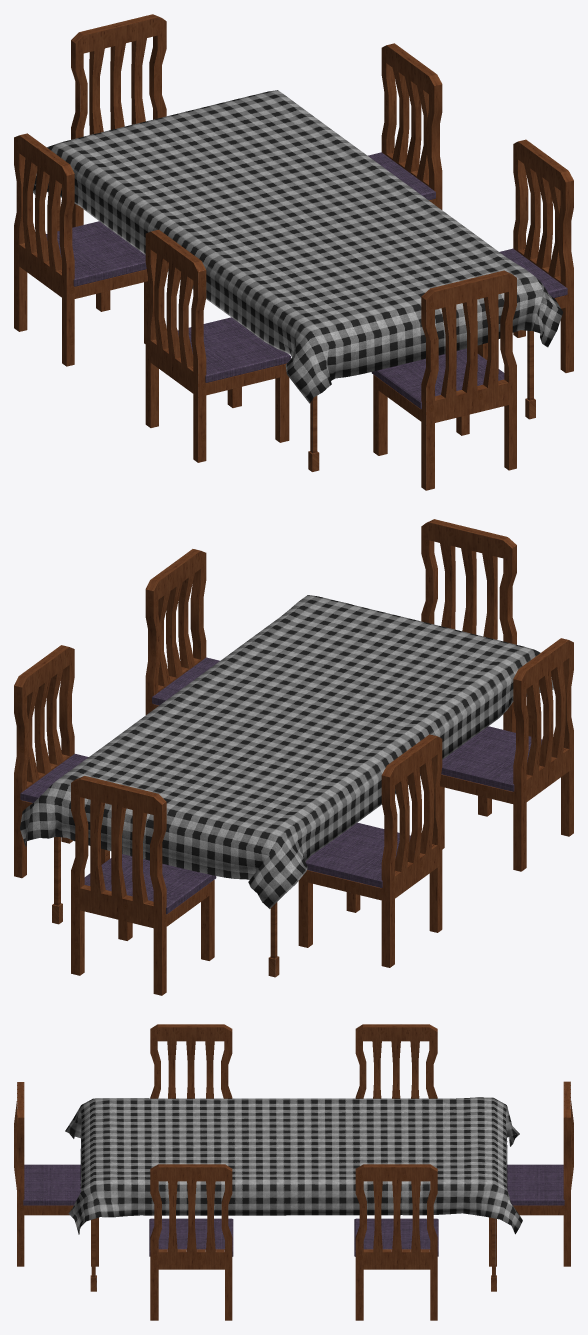
File: dining.glb
The picture shows the model from 3 angles, top to bottom: view 1: azimuth 30°, elevation 25°; view 2: azimuth 150°, elevation 25°; view 3: azimuth 270°, elevation 25°; orthographic projection. The views are drawn at different scales.
Parts seen in each view (by area): view 1: Cloth, Chair_a, Chair_d, Chair_e, Chair_c, Chair_f, Chair_b, Table; view 2: Cloth, Chair_f, Chair_e, Chair_d, Chair_b, Chair_a, Chair_c, Table; view 3: Cloth, Chair_b, Chair_c, Chair_a, Chair_f, Chair_d, Chair_e, Table.
Boxes of the visible parts, x1=… form: Cloth: x1=33, y1=90, x2=563, y2=403; Chair_a: x1=371, y1=270, x2=516, y2=490; Chair_d: x1=145, y1=229, x2=290, y2=462; Chair_e: x1=14, y1=133, x2=147, y2=366; Chair_c: x1=477, y1=139, x2=573, y2=372; Chair_f: x1=71, y1=14, x2=166, y2=227; Chair_b: x1=368, y1=43, x2=442, y2=209; Table: x1=57, y1=197, x2=535, y2=471; Cloth: x1=20, y1=595, x2=553, y2=908; Chair_f: x1=71, y1=776, x2=216, y2=995; Chair_e: x1=298, y1=734, x2=442, y2=967; Chair_d: x1=440, y1=638, x2=573, y2=871; Chair_b: x1=14, y1=645, x2=109, y2=878; Chair_a: x1=421, y1=519, x2=516, y2=732; Chair_c: x1=145, y1=549, x2=219, y2=714; Table: x1=52, y1=696, x2=531, y2=977; Cloth: x1=65, y1=1097, x2=522, y2=1234; Chair_b: x1=354, y1=1164, x2=438, y2=1320; Chair_c: x1=149, y1=1164, x2=233, y2=1320; Chair_a: x1=14, y1=1082, x2=98, y2=1266; Chair_f: x1=489, y1=1081, x2=573, y2=1266; Chair_d: x1=150, y1=1024, x2=232, y2=1098; Chair_e: x1=355, y1=1024, x2=437, y2=1098; Table: x1=90, y1=1218, x2=496, y2=1291.
Bounding box in the file's own units: 672 × 330 × 1092.
Materials: 3 (3 with a texture image).
